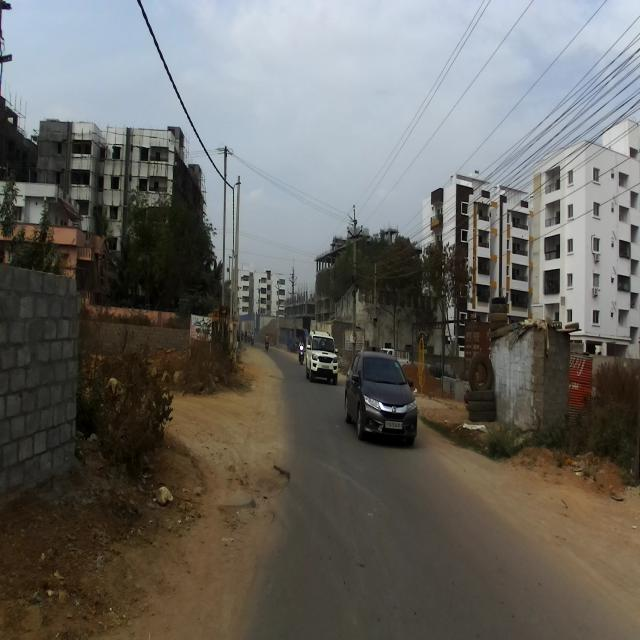car ahead at: (342, 340, 428, 454), (301, 325, 338, 386)
